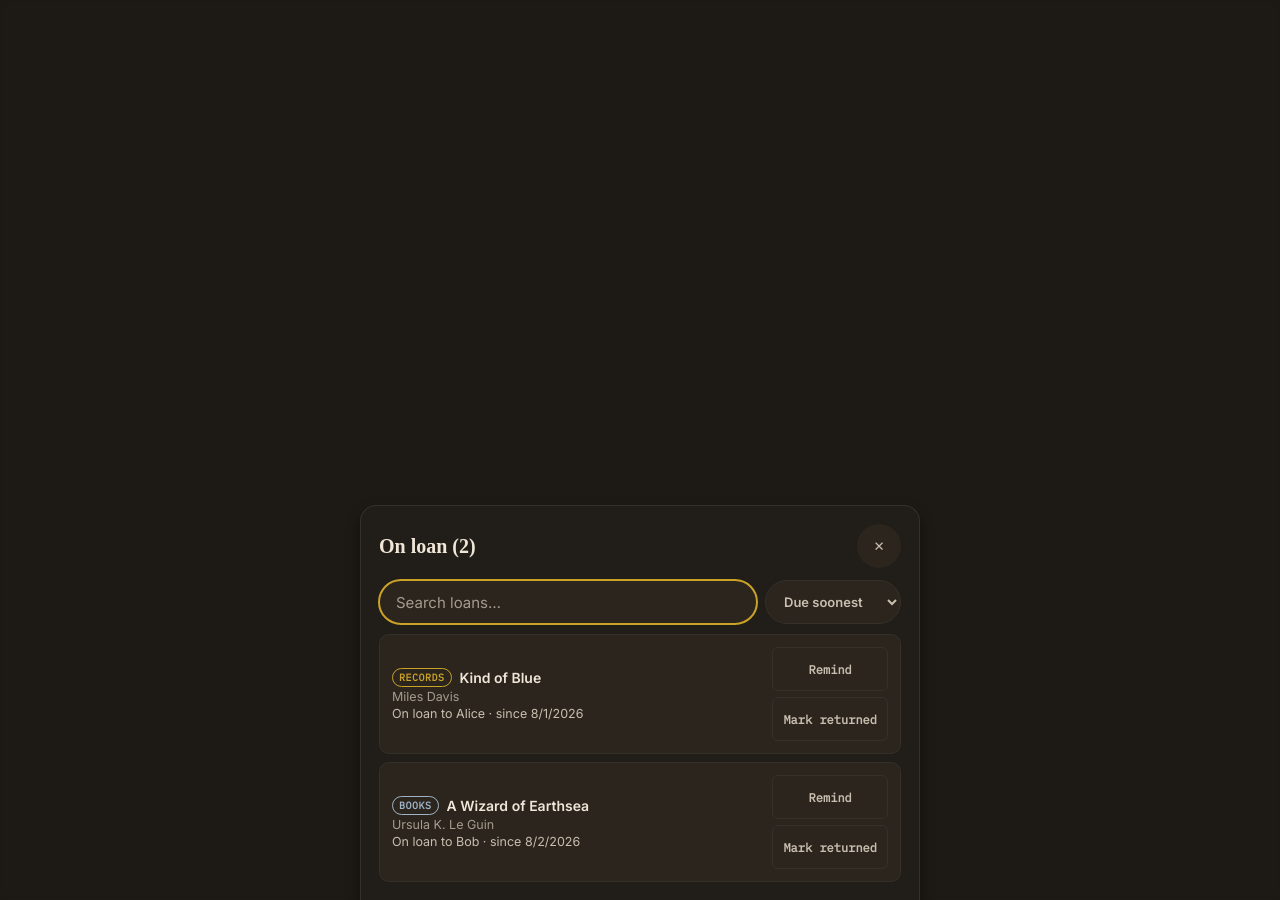
Test case: LoansDashboard (W7) › shows the no-matches line when search filters everything out
This screenshot has width=1280, height=900.
Expected: the text "A Wizard of Earthsea" is shown, [446, 796, 589, 814]
Type "zzzz" into the search field labelled "Search loans…" at (568, 602), box [379, 580, 757, 624]
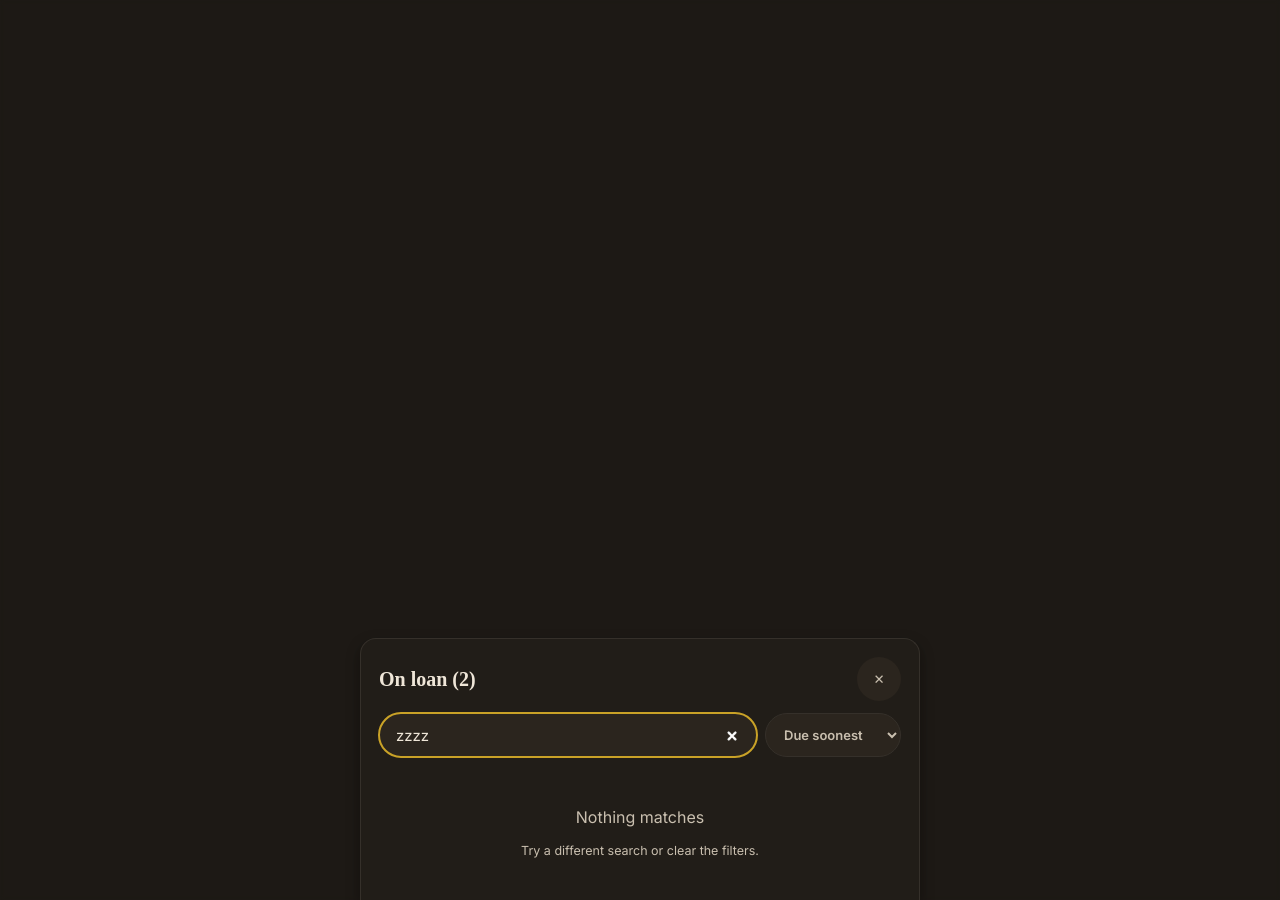
Result: the text "Nothing matches" is shown at [576, 807, 704, 827]
Result: the text "Try a different search or clear the filters." is shown at [521, 843, 759, 858]
